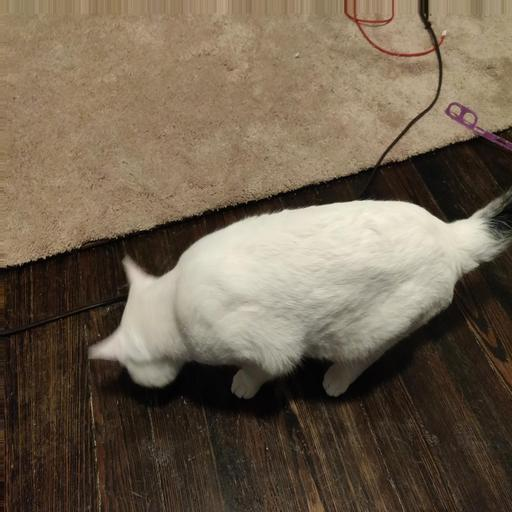cat: (96, 193, 310, 407)
